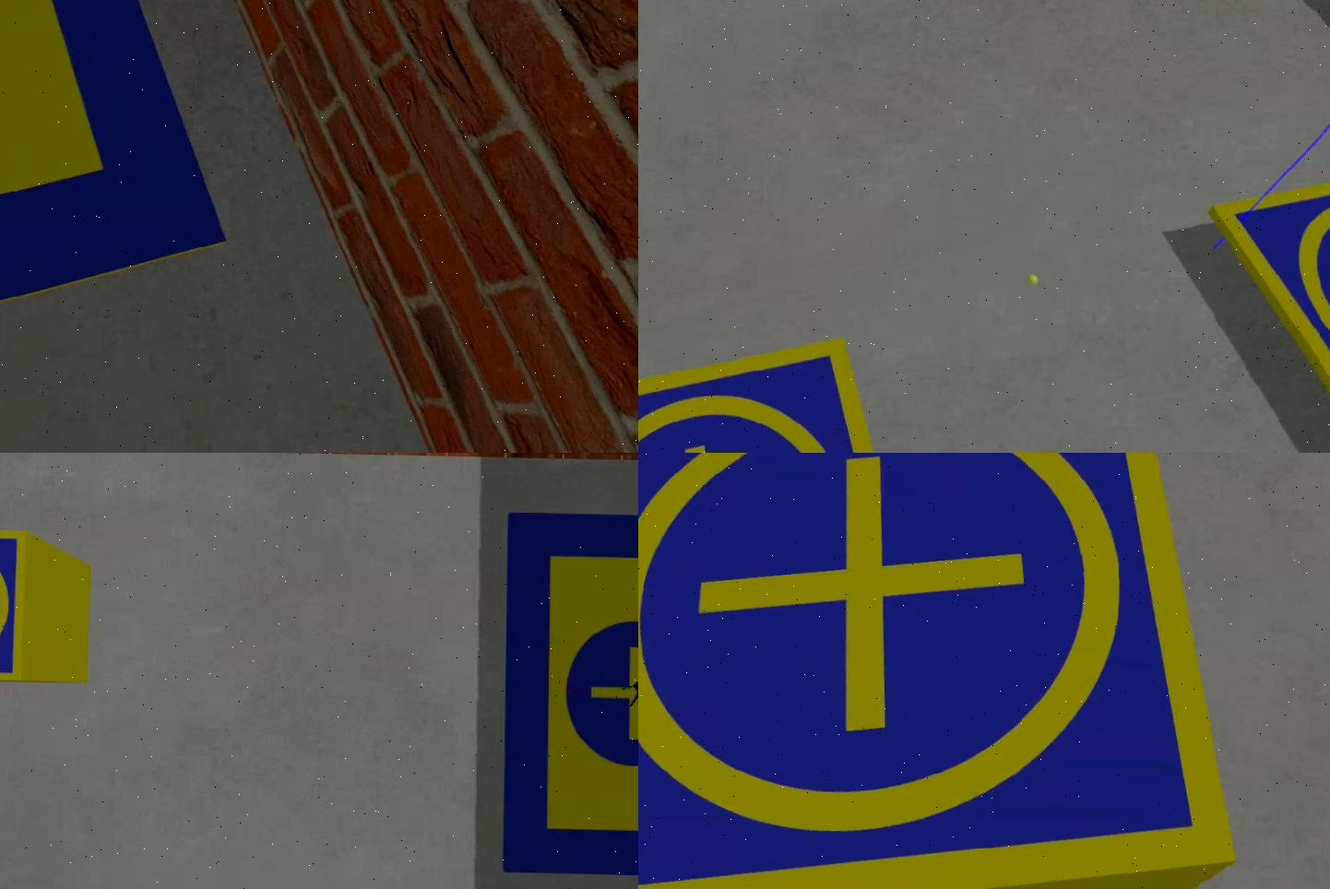large_base: (1, 1, 236, 417), (500, 509, 639, 879)
small_base: (639, 454, 1257, 889), (1203, 154, 1330, 454), (639, 332, 918, 454)
